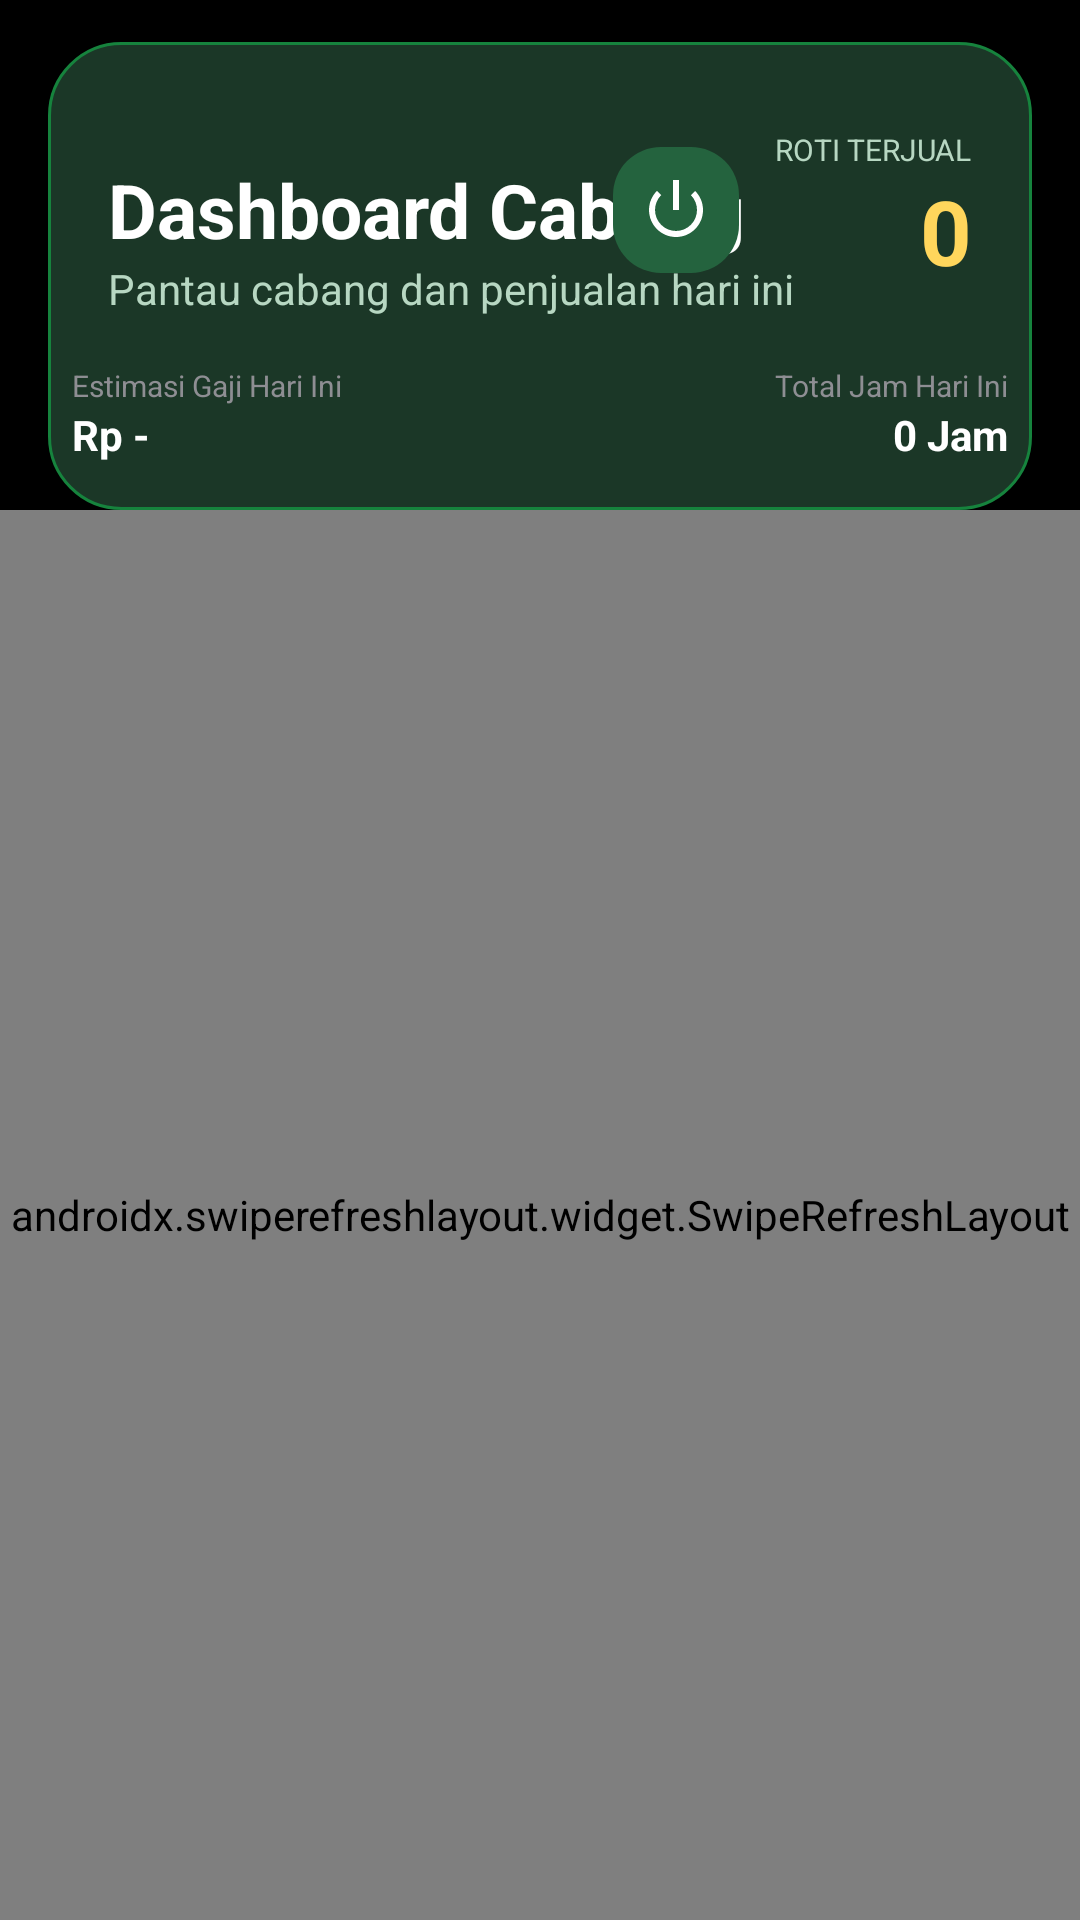

Icon click points for this 1080*1920 phone screenshot, format point (x, y):
lock power off: point (676, 210)
